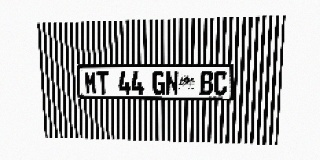4: (118, 71, 131, 95), (131, 71, 144, 95)
B: (200, 71, 213, 95)
C: (213, 71, 227, 95)
G: (152, 71, 165, 95)
M: (84, 71, 97, 94)
N: (166, 71, 178, 95)
T: (97, 71, 109, 94)
